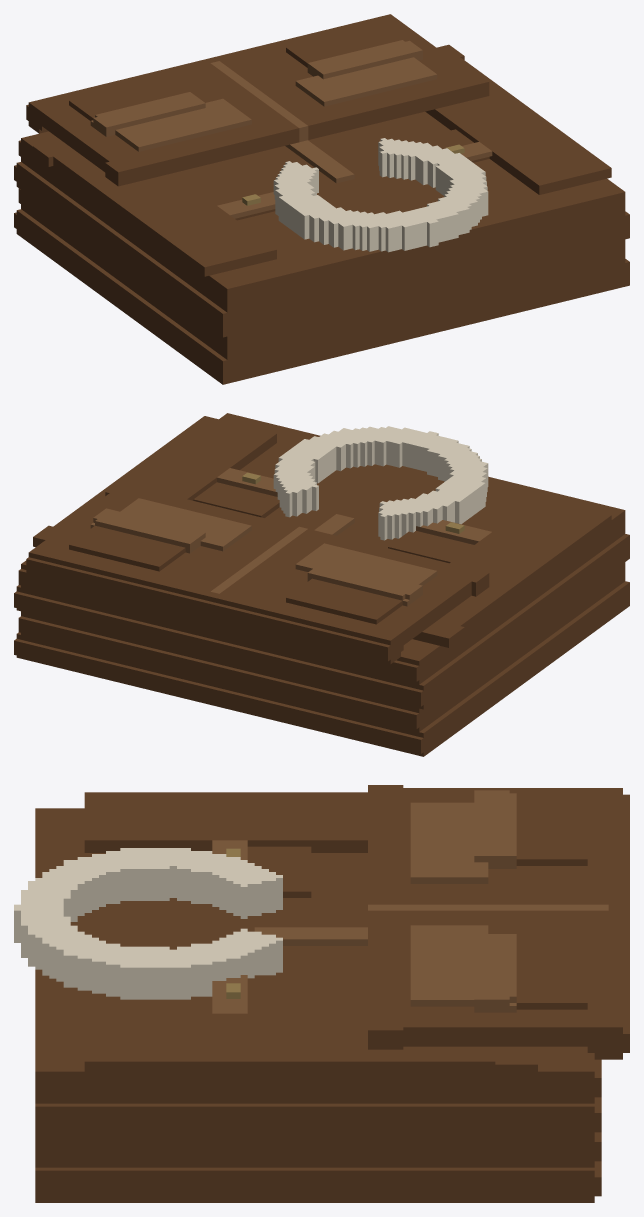
Rendered from technician_coveralls_h.glb.
The picture shows the model from 3 angles, top to bottom: view 1: azimuth 30°, elevation 25°; view 2: azimuth 150°, elevation 25°; view 3: azimuth 270°, elevation 25°; orthographic projection. The views are drawn at different scales.
Visible parts, largest first — view 1: technician_coveralls_h:compound; view 2: technician_coveralls_h:compound; view 3: technician_coveralls_h:compound.
Part boxes in pixels (x1,y1,x2,y2): technician_coveralls_h:compound: (14, 14, 629, 384); technician_coveralls_h:compound: (14, 413, 629, 756); technician_coveralls_h:compound: (14, 785, 629, 1202).
Size of the model in its own units: 0.368 by 0.108 by 0.348.
